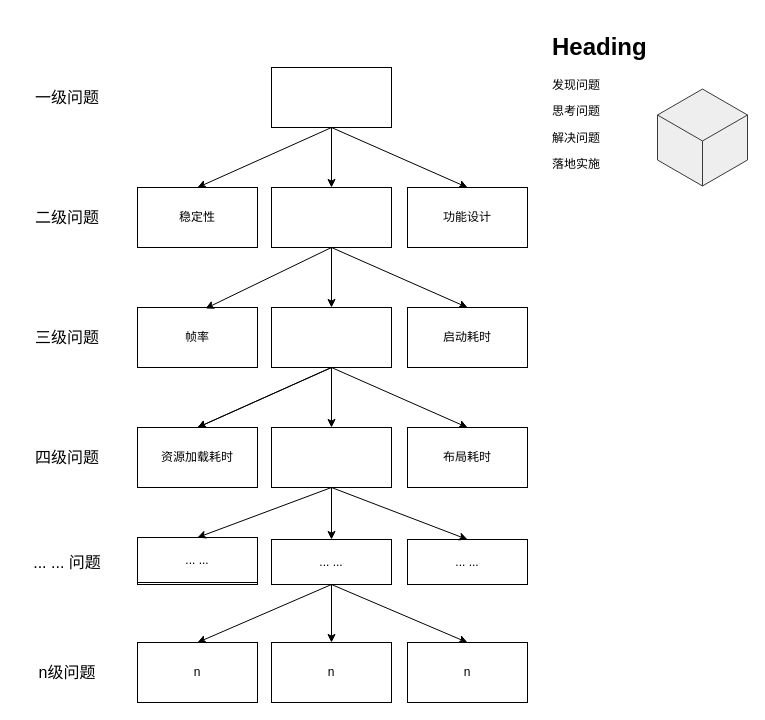
Some shapes in this 765 by 720 pixel diagram are drawn without their labels. The box of each missing label's shape, as (x1, y1, x2, y2) in pixels:
性能: (270, 186, 392, 248)
提升用户体验: (270, 66, 392, 128)
网络耗时: (270, 426, 392, 488)
页面秒开: (270, 306, 392, 368)
